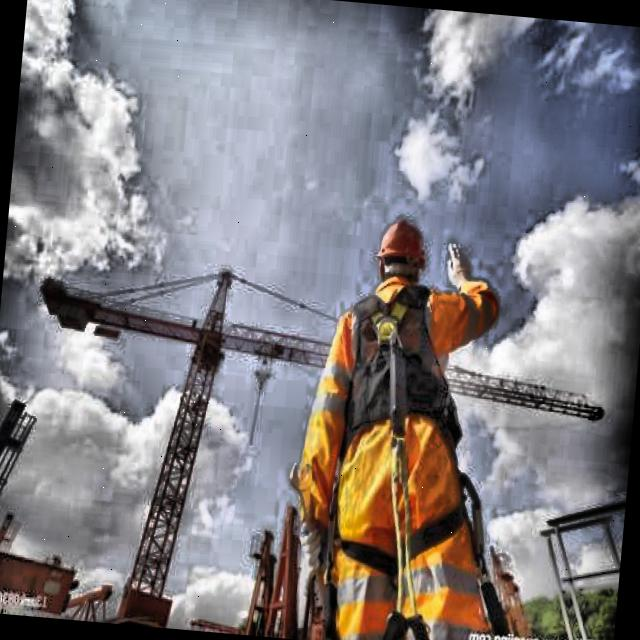helmet: (366, 208, 432, 308)
